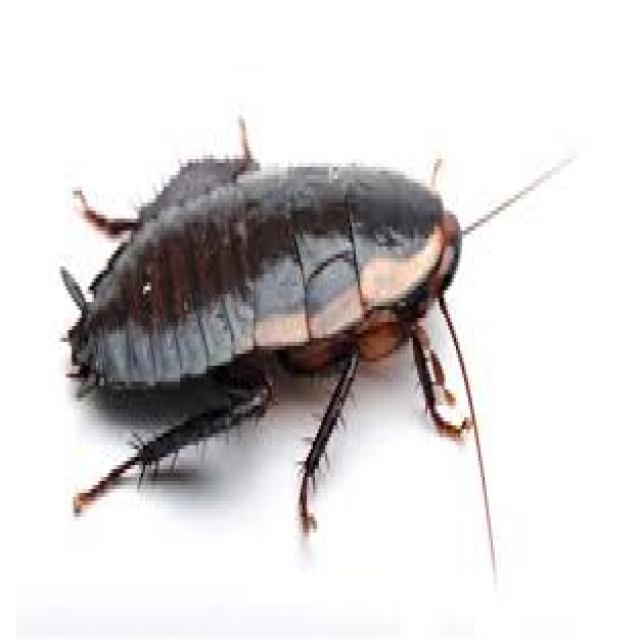Cockroach: (48, 81, 590, 594)
